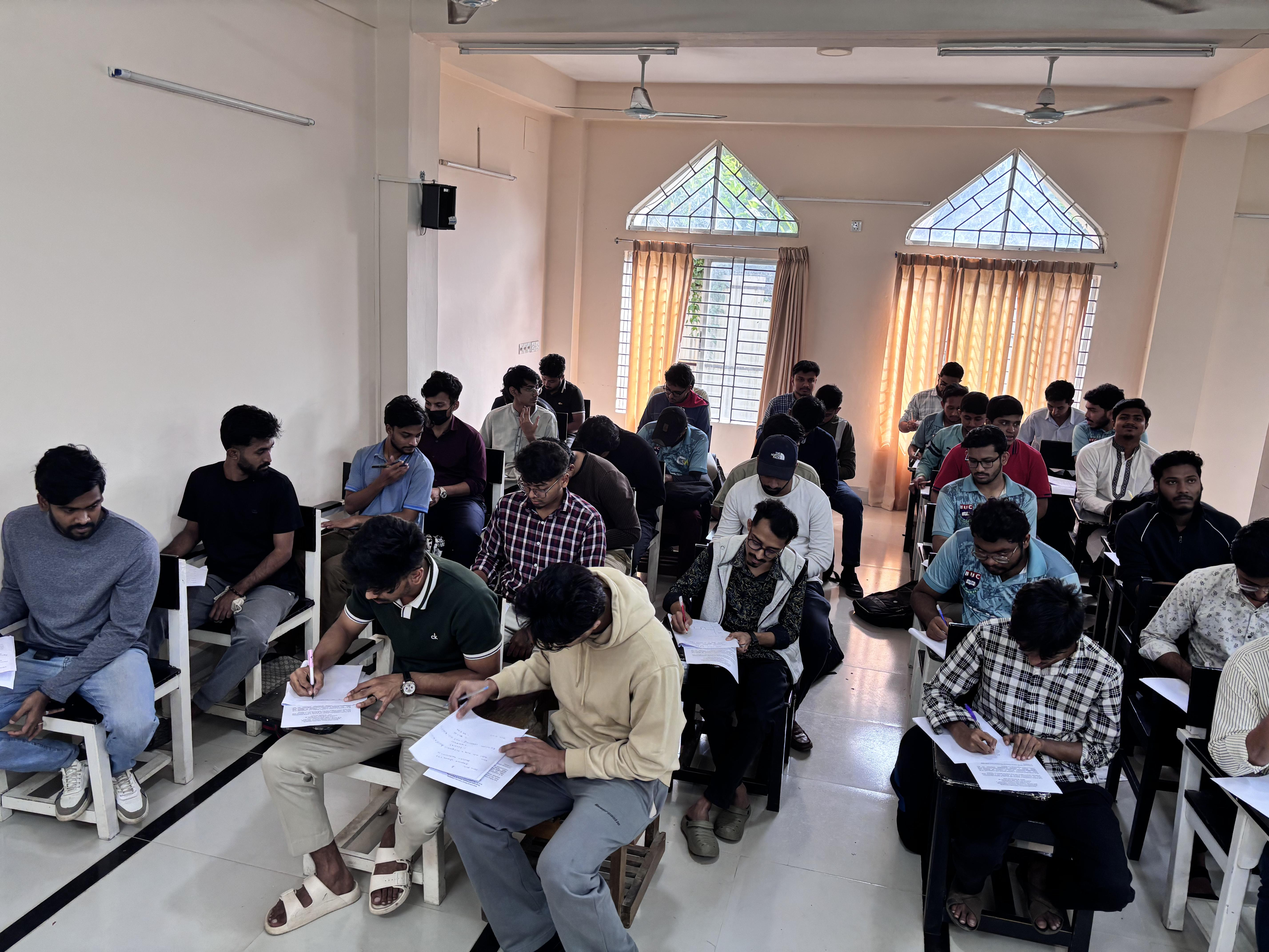copying: (3, 435, 158, 764), (173, 396, 307, 642), (324, 395, 427, 554)
no_cheating: (449, 571, 644, 862), (922, 587, 1112, 857), (271, 518, 445, 760), (666, 510, 806, 717), (1135, 546, 1269, 719), (468, 441, 584, 573), (918, 517, 1024, 634), (912, 420, 1006, 541), (720, 442, 829, 532), (1075, 401, 1154, 520), (414, 372, 484, 478), (625, 397, 712, 467), (641, 358, 714, 421), (565, 415, 655, 465), (1023, 379, 1074, 457), (537, 348, 590, 418), (760, 349, 821, 401), (763, 407, 835, 449), (911, 362, 953, 425), (909, 392, 958, 434), (945, 390, 988, 432), (816, 381, 846, 406)
suspicious_moving: (1119, 448, 1233, 545), (487, 354, 559, 439), (989, 395, 1031, 444)
